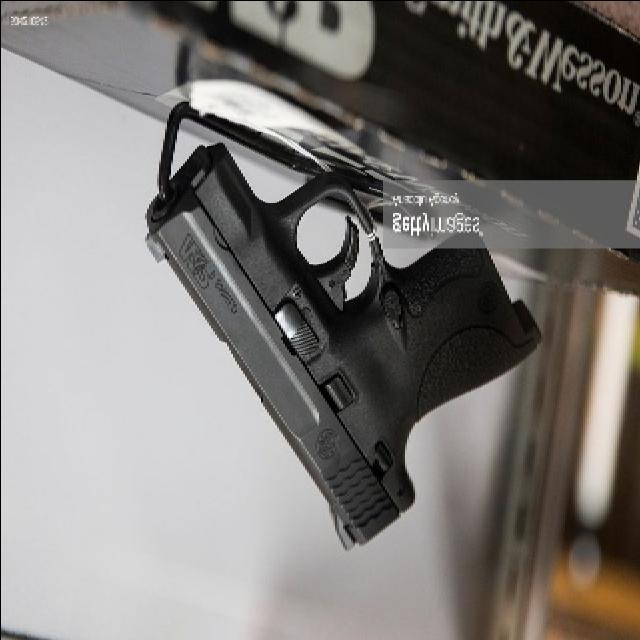handgun: (141, 146, 541, 567)
